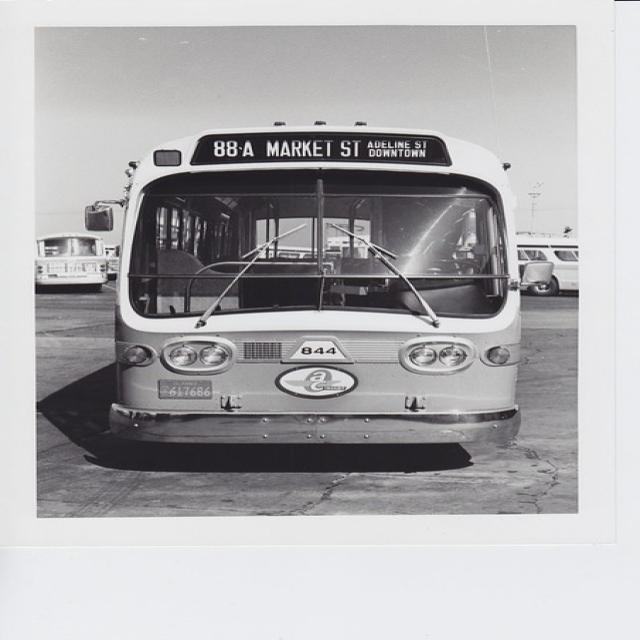Bus: (88, 123, 522, 429), (37, 236, 110, 286), (518, 242, 578, 294)
